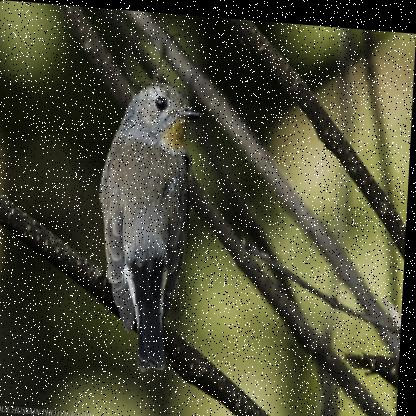Burung: (88, 81, 209, 388)
